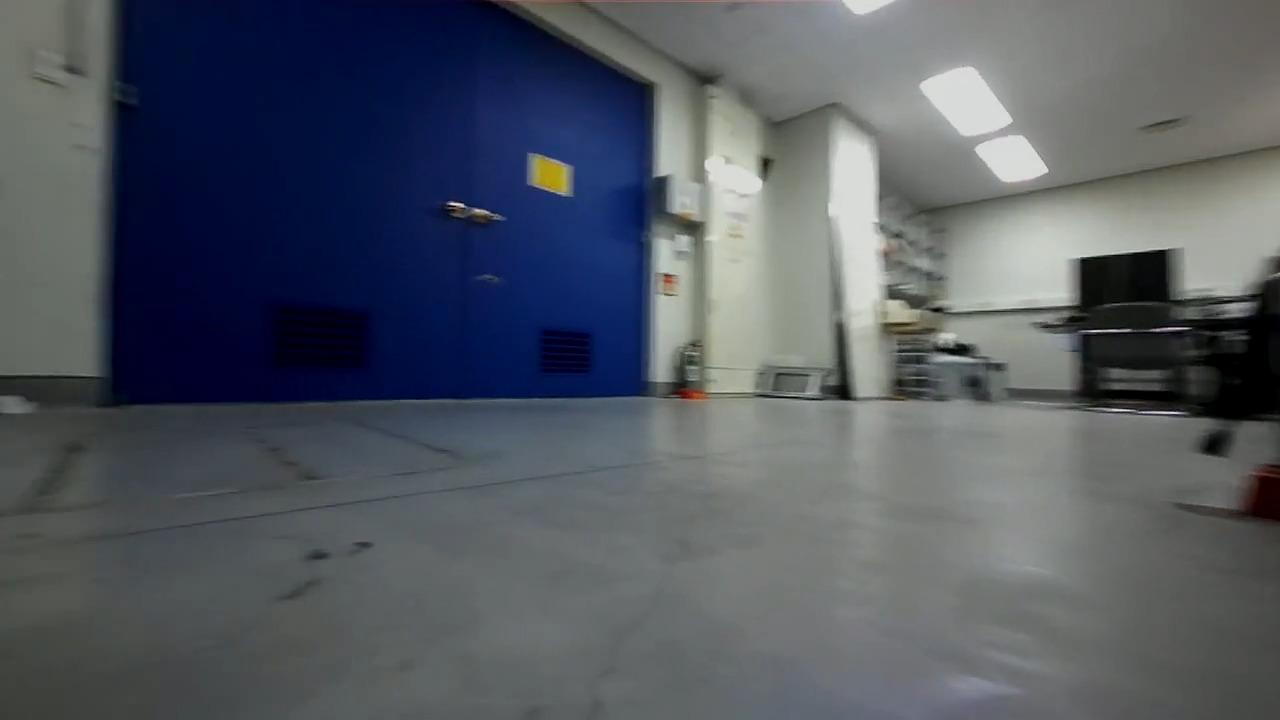crazyflie: (457, 264, 514, 291)
